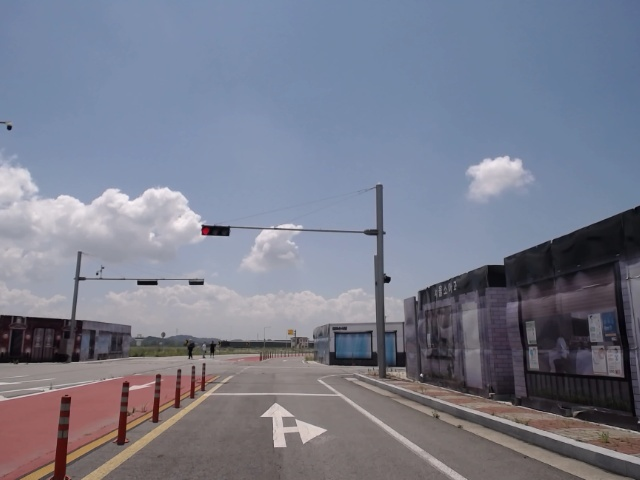red_3: (201, 225, 232, 238)
